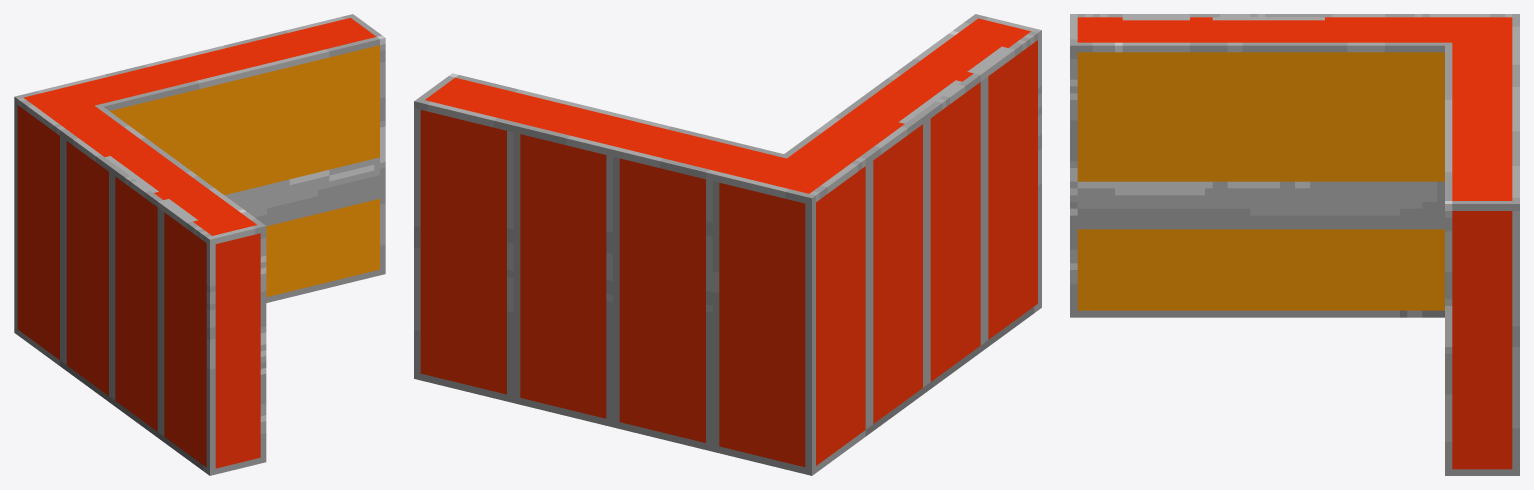
File: Engineering Corner.obj
3 views of the same model, side by side, from view 1: azimuth 30°, elevation 25°; view 2: azimuth 150°, elevation 25°; view 3: azimuth 270°, elevation 25° (orthographic). The views are drawn at different scales.
Size of the model in its own units: 60 by 40 by 60.
Materials: 1 (1 with a texture image).
